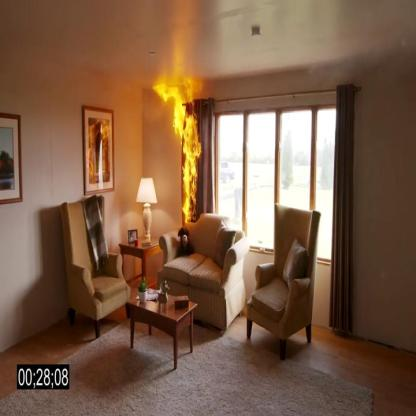fire: (148, 81, 215, 225)
